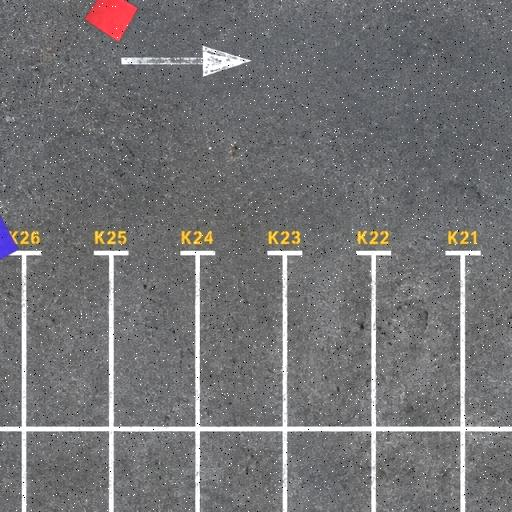RED_SQUARE: (84, 0, 138, 43)
